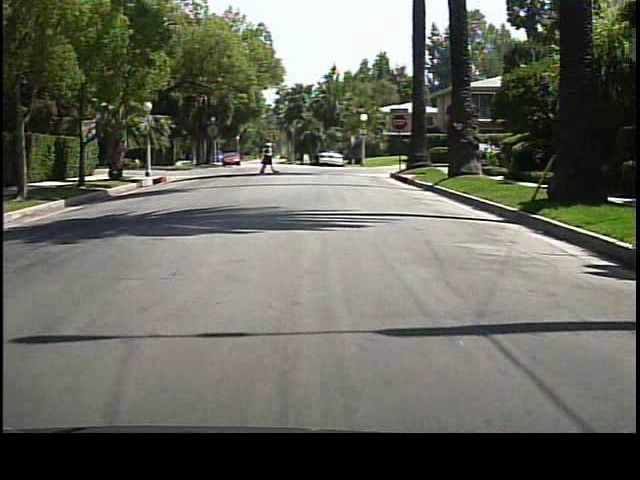person: (261, 136, 278, 175)
